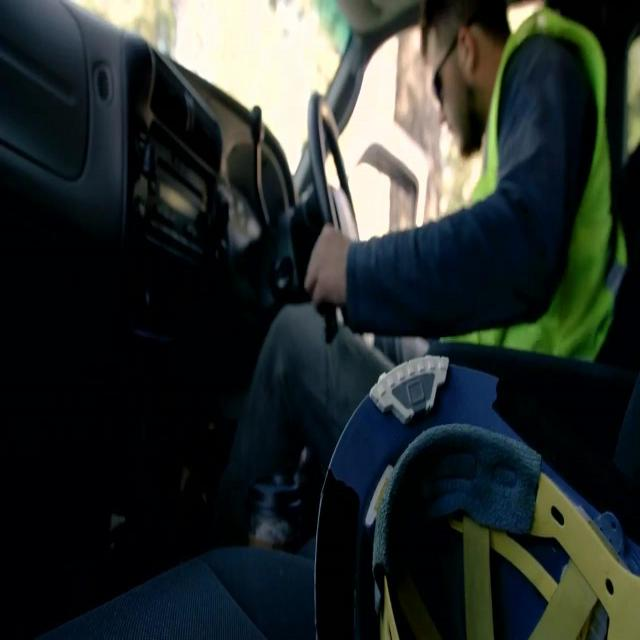Reflective-Jacket: (463, 5, 625, 370)
